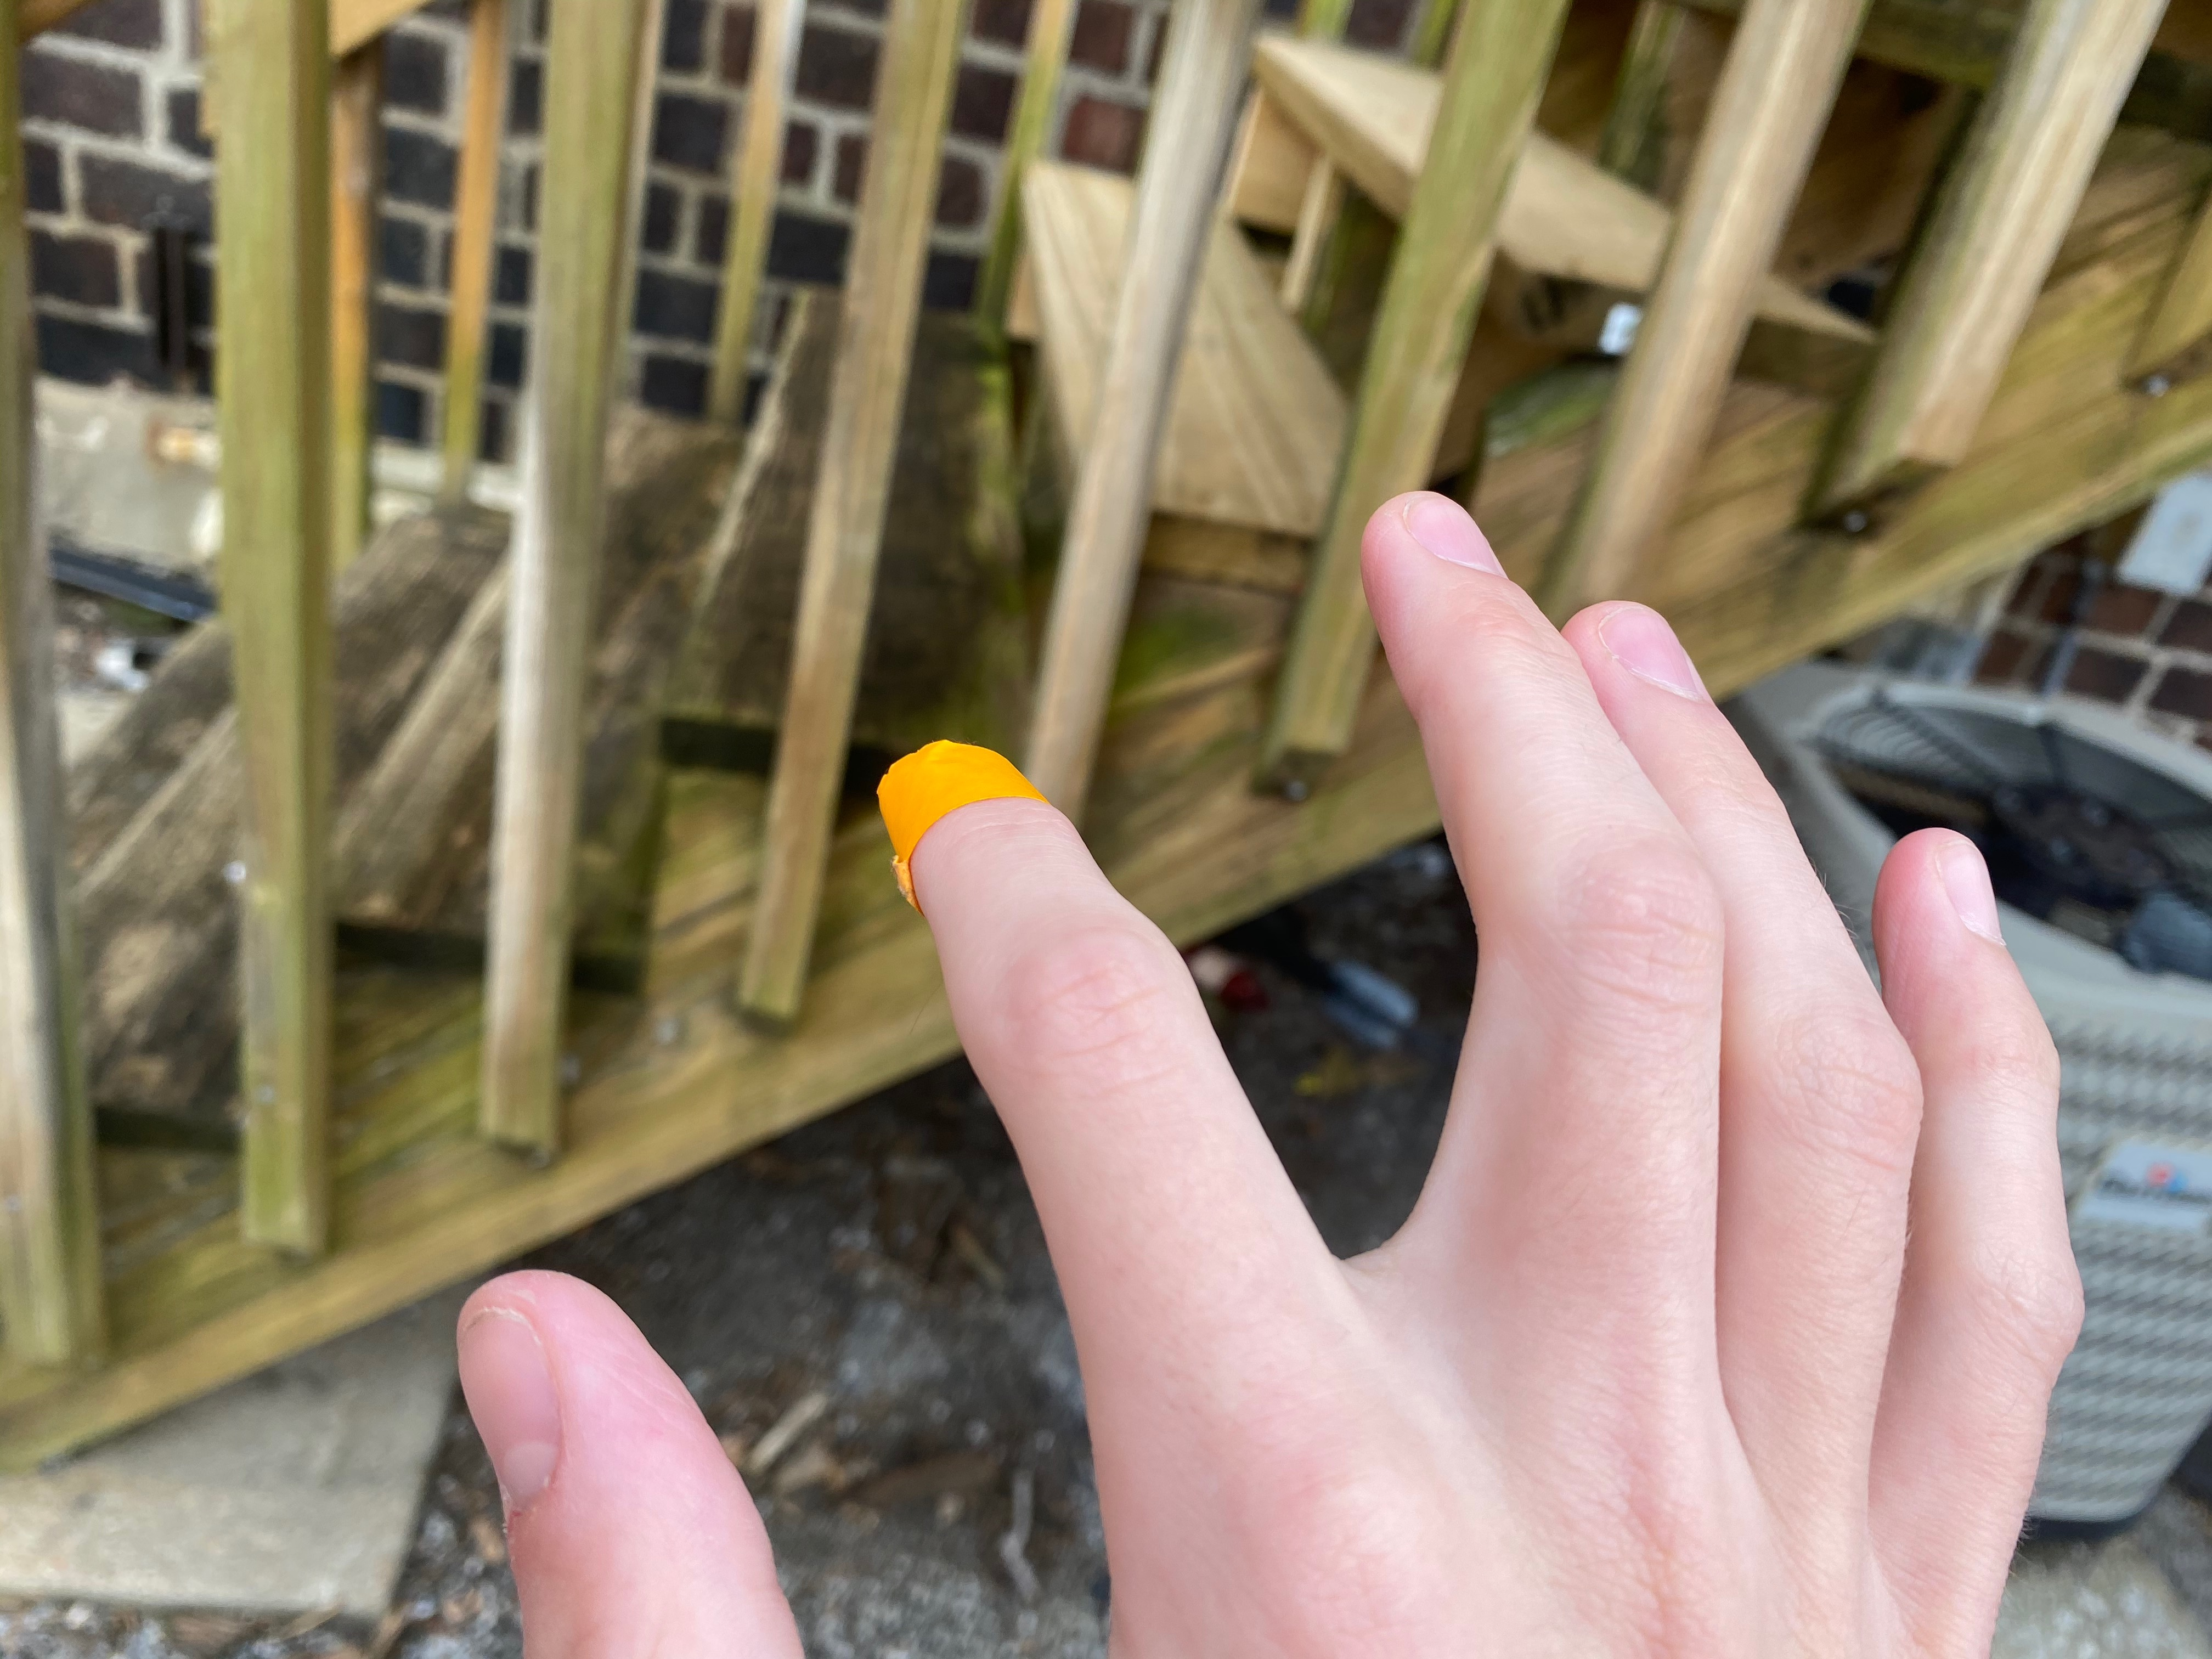fingertip: (829, 720, 1132, 920)
